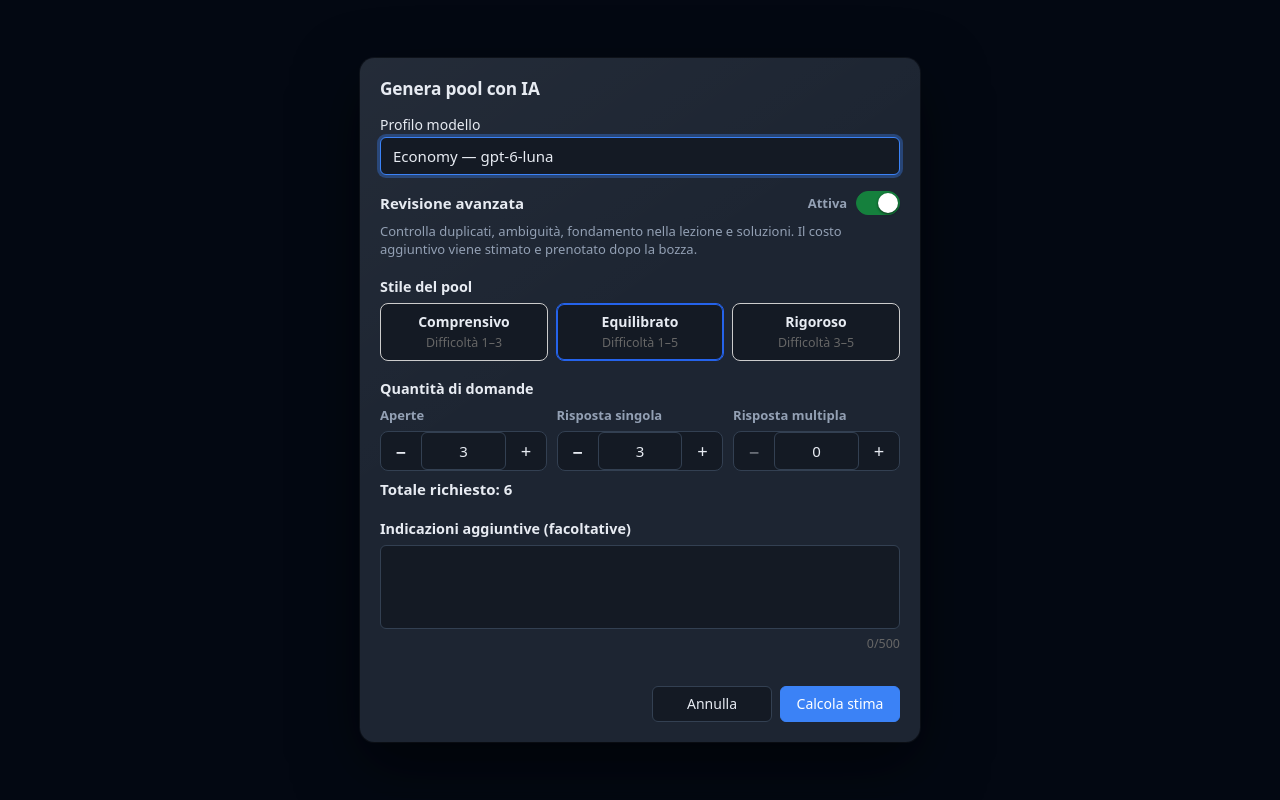
Test: AiPoolGenerationDialog — AIGEN-UI-01 UI › disables every «+» once the total reaches the maximum, without silently correcting manual over-max input
Replace the text in the field named "Aperte" with "30". click: x=463, y=451
box: 421,432 -> 506,470
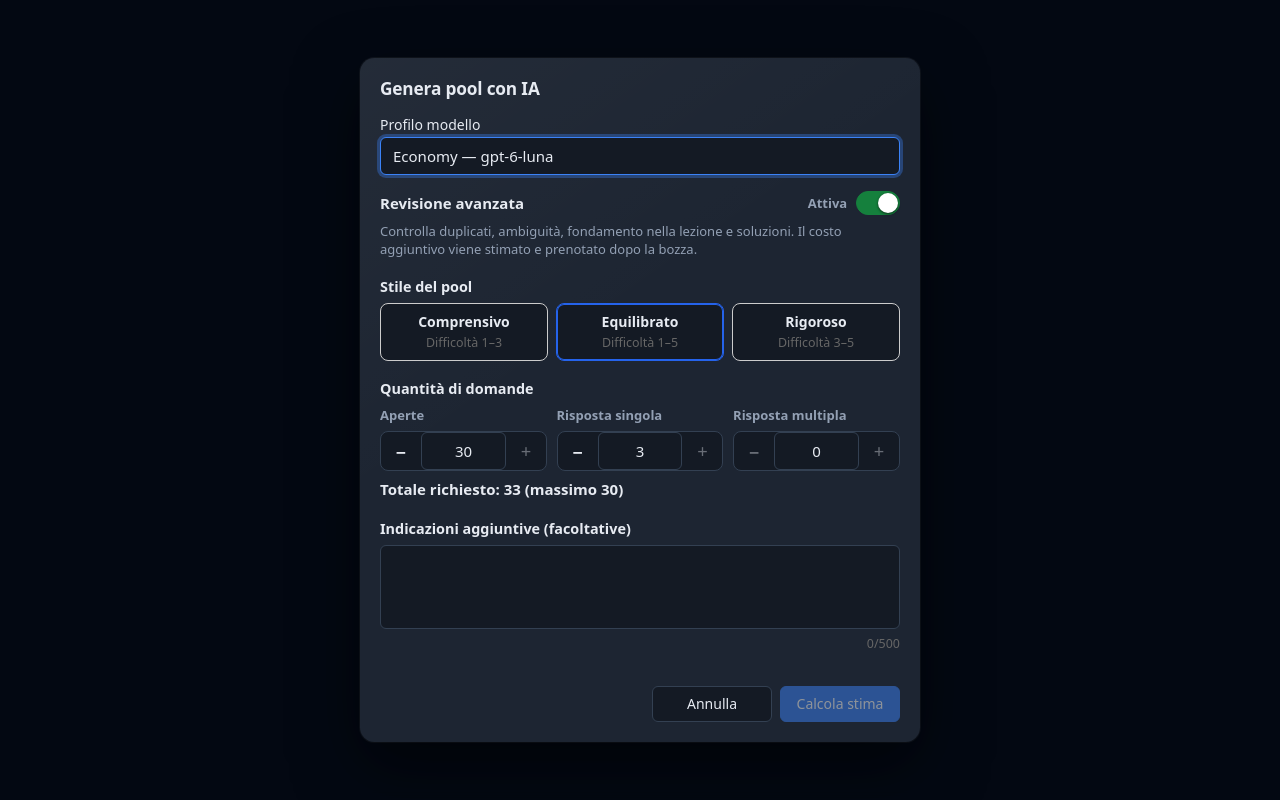
Now the text "Totale richiesto: 33 (massimo 30)" is shown, box 380,478 -> 623,498
Now the button named "Aumenta domande aperte" is disabled, box 506,432 -> 546,470
Now the button named "Aumenta domande a risposta multipla" is disabled, box 859,432 -> 899,470
